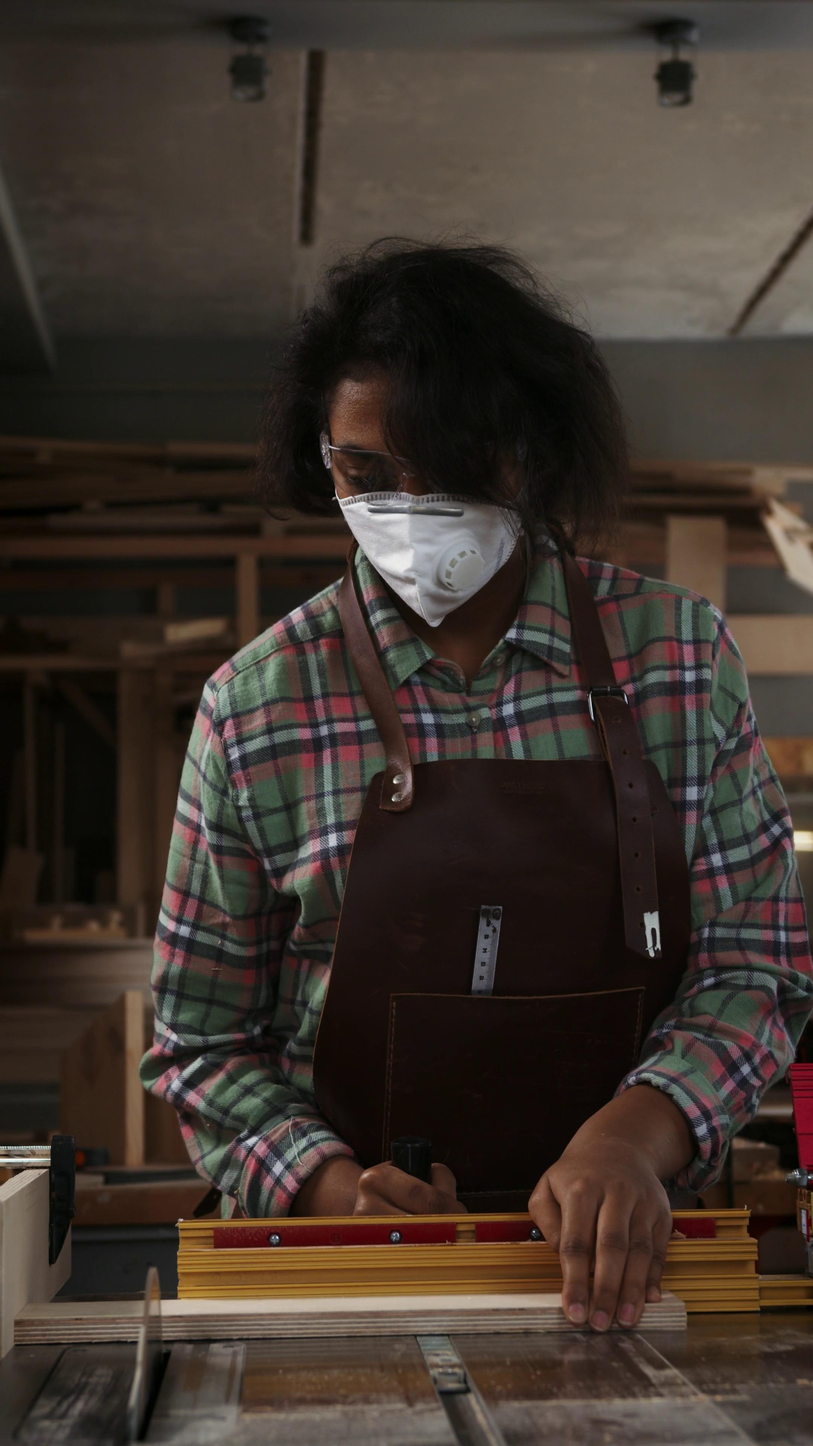mask: (336, 491, 520, 625)
person: (134, 232, 813, 1335)
